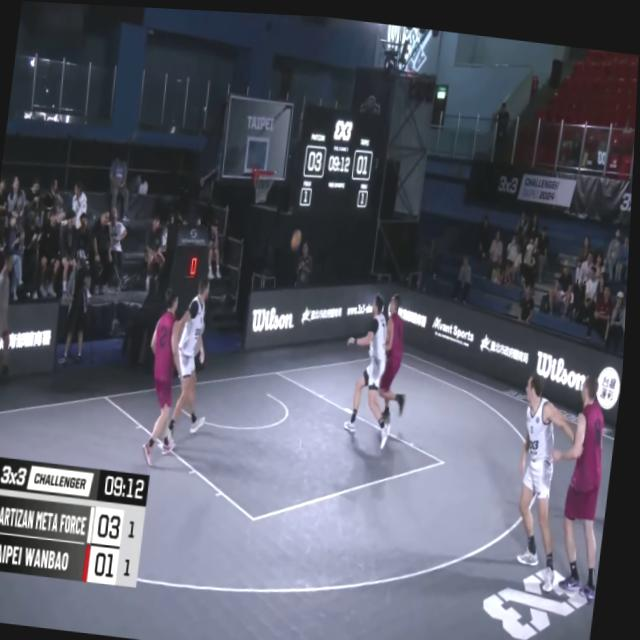ball: (289, 218, 308, 252)
hoop: (251, 160, 278, 202)
player: (541, 361, 625, 592), (509, 370, 585, 583), (341, 286, 409, 443), (168, 269, 224, 449), (142, 284, 196, 462), (373, 282, 424, 426)
